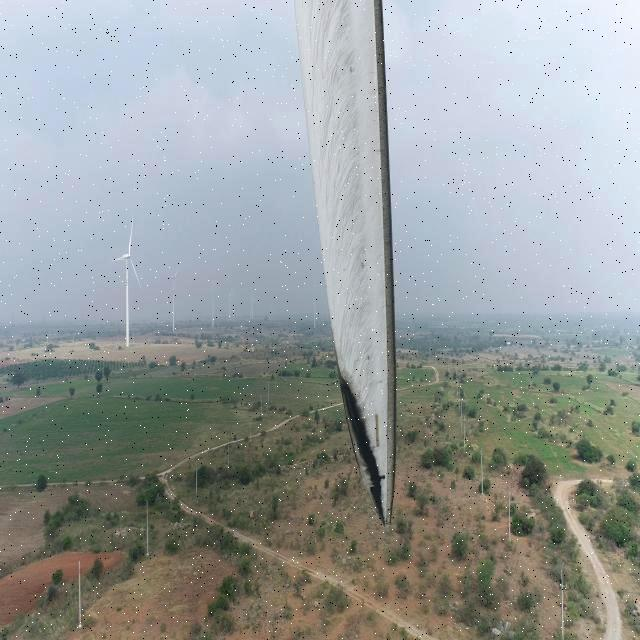Dirt: (298, 0, 399, 518)
Oil LEAKAGE: (339, 378, 390, 526)
Pin Hole: (377, 471, 389, 484)
